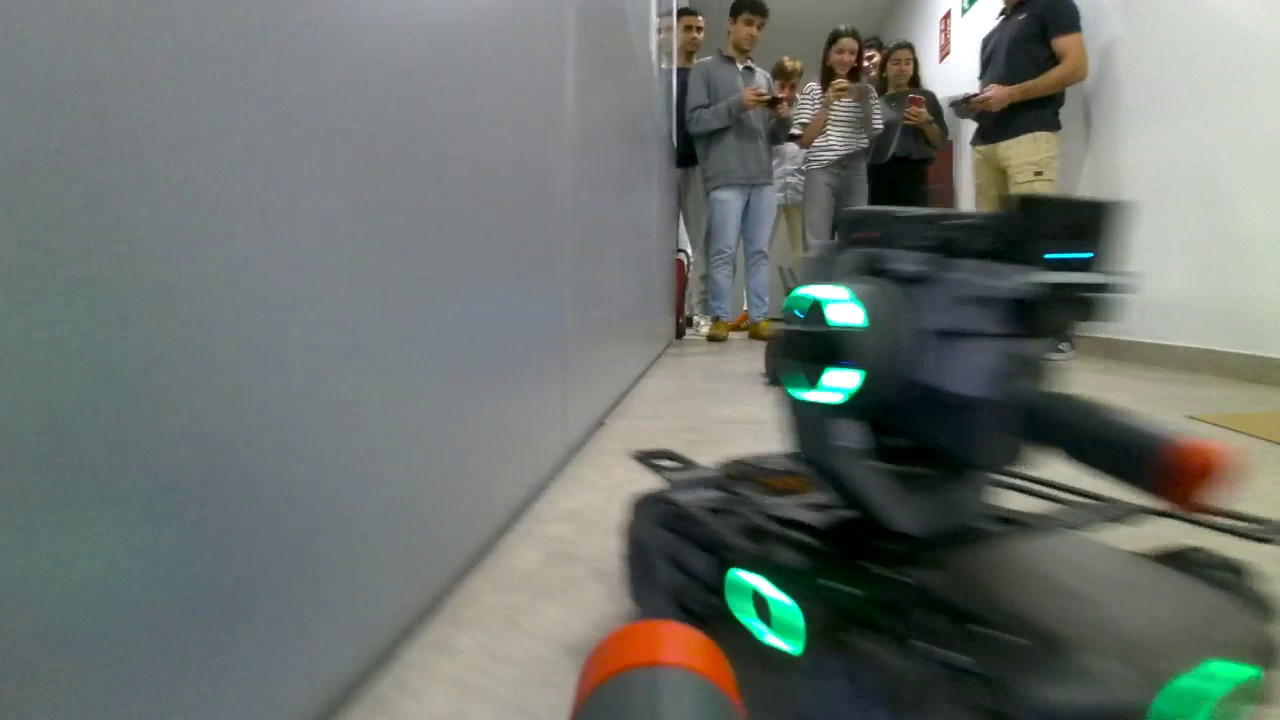robot: (628, 203, 1269, 717)
